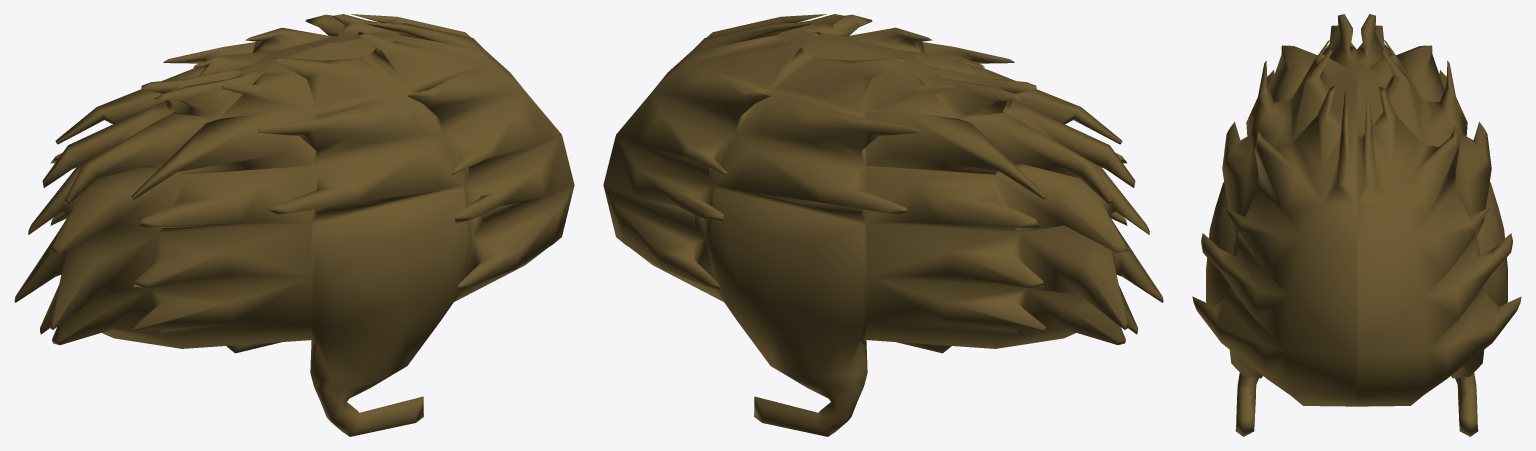
File: Spiney.fbx
3 renders of one model, left to right at view 1: azimuth 30°, elevation 25°; view 2: azimuth 150°, elevation 25°; view 3: azimuth 270°, elevation 25°, orthographic. The views are drawn at different scales.
Parts seen in each view (by area): view 1: pSphere1; view 2: pSphere1; view 3: pSphere1.
Part boxes in pixels (box(x1,y1,x2,y2)): pSphere1: box(14, 14, 574, 436); pSphere1: box(603, 14, 1163, 436); pSphere1: box(1192, 14, 1521, 436).
Bounding box in the file's own units: 17.11 × 11.3 × 9.78.
